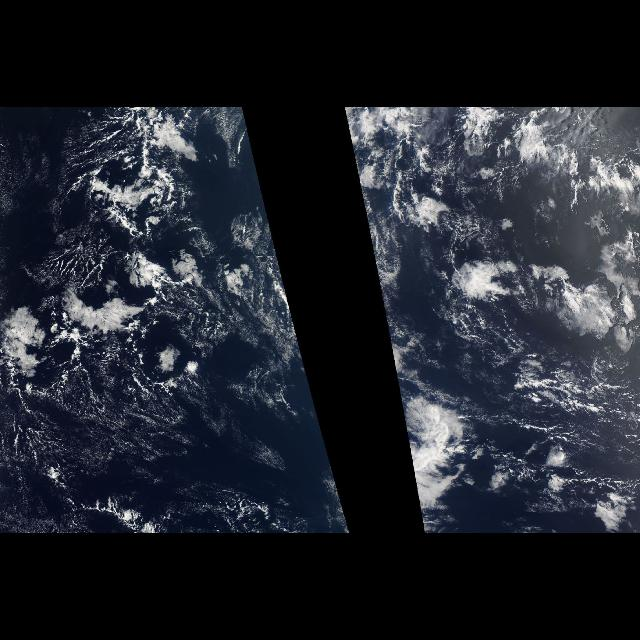Sugar: (2, 198, 314, 534)
